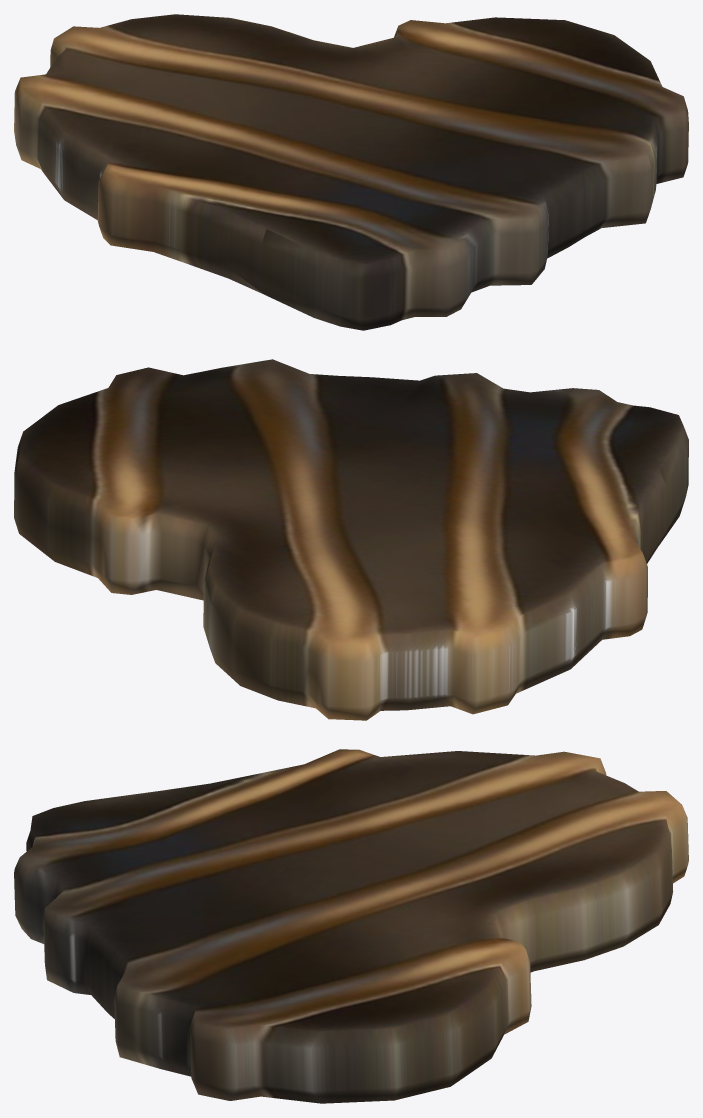
File: 2023_choco.fbx
3 renders of one model, top to bottom at view 1: azimuth 30°, elevation 25°; view 2: azimuth 150°, elevation 25°; view 3: azimuth 270°, elevation 25°, orthographic. The views are drawn at different scales.
Visible parts, largest first — view 1: 101270475_3.004; view 2: 101270475_3.004; view 3: 101270475_3.004.
Part boxes in pixels (left/top/right/bottom): 101270475_3.004: left=14, top=14, right=688, bottom=330; 101270475_3.004: left=14, top=359, right=688, bottom=720; 101270475_3.004: left=14, top=749, right=688, bottom=1103.
Bounding box in the file's own units: 60.26 × 8.88 × 60.8.
